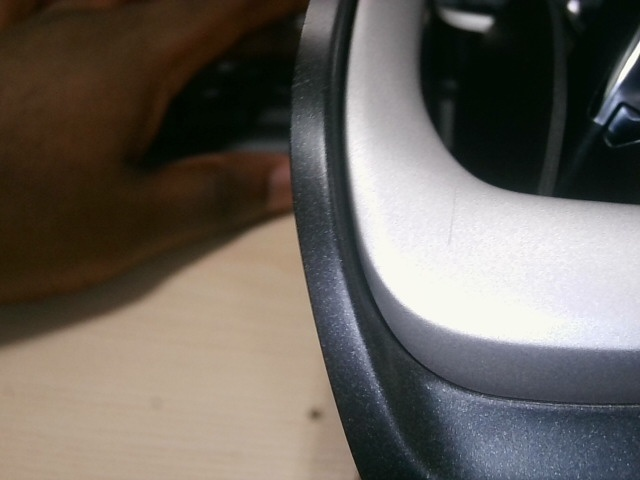NG: (444, 185, 472, 255), (292, 55, 321, 100)
